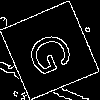G: (25, 25, 84, 79)
